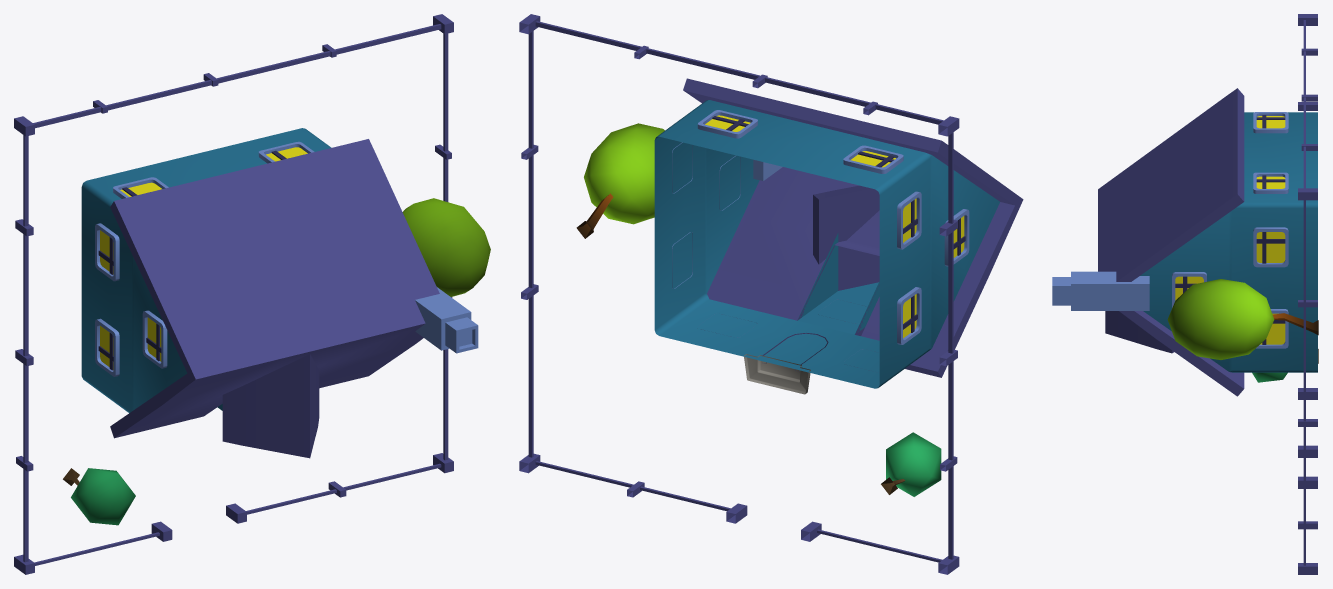
File: Simple_House_01_04.fbx
The picture shows the model from 3 angles, left to right: view 1: azimuth 30°, elevation 25°; view 2: azimuth 150°, elevation 25°; view 3: azimuth 270°, elevation 25°; orthographic projection. The views are drawn at different scales.
Parts seen in each view (by area): view 1: Simple_House_01_04; view 2: Simple_House_01_04; view 3: Simple_House_01_04.
Boxes of the visible parts, x1,y1,x2,y2 form: Simple_House_01_04: [14, 14, 490, 574]; Simple_House_01_04: [519, 14, 1023, 574]; Simple_House_01_04: [1052, 14, 1318, 574].
Size of the model in its own units: 197 by 197 by 124.
